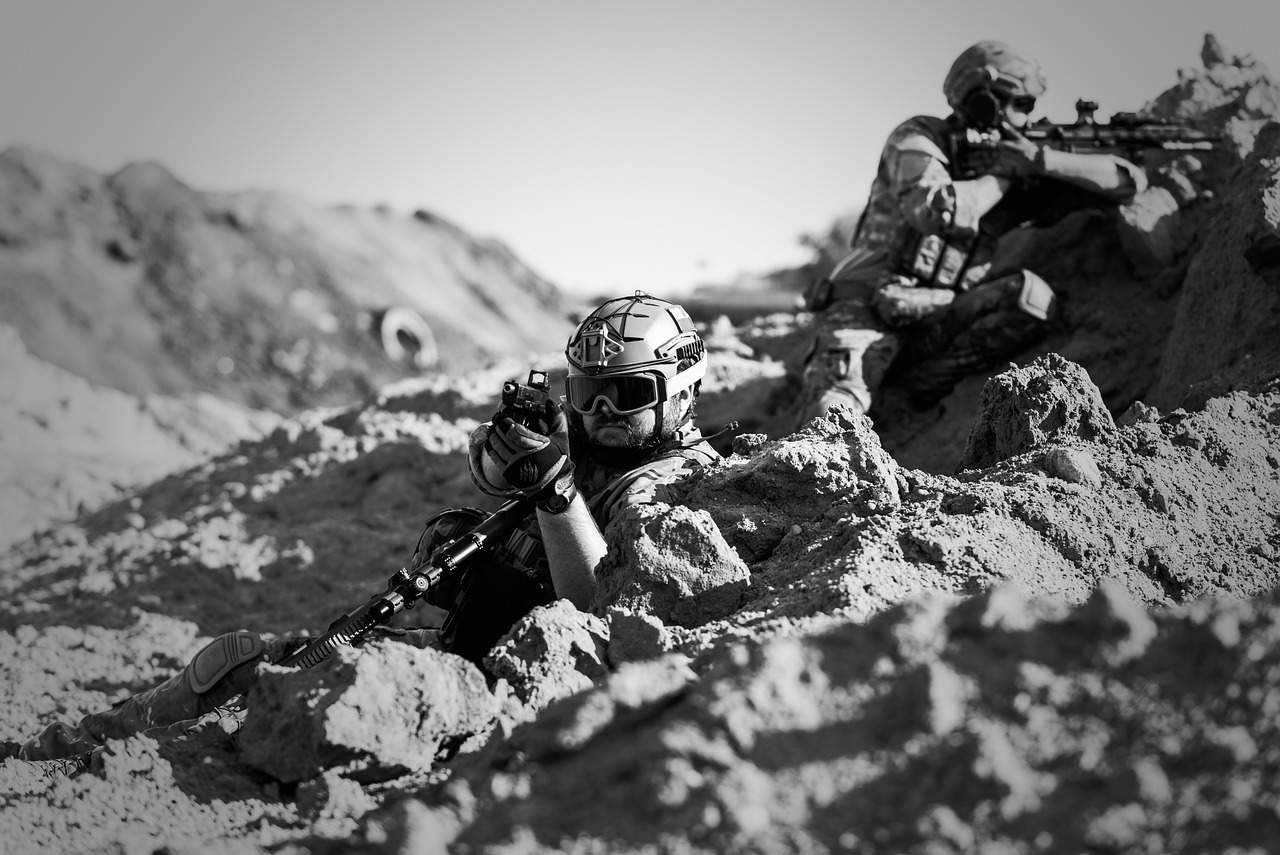gun: (282, 486, 541, 675), (939, 94, 1221, 185), (498, 366, 556, 434)
